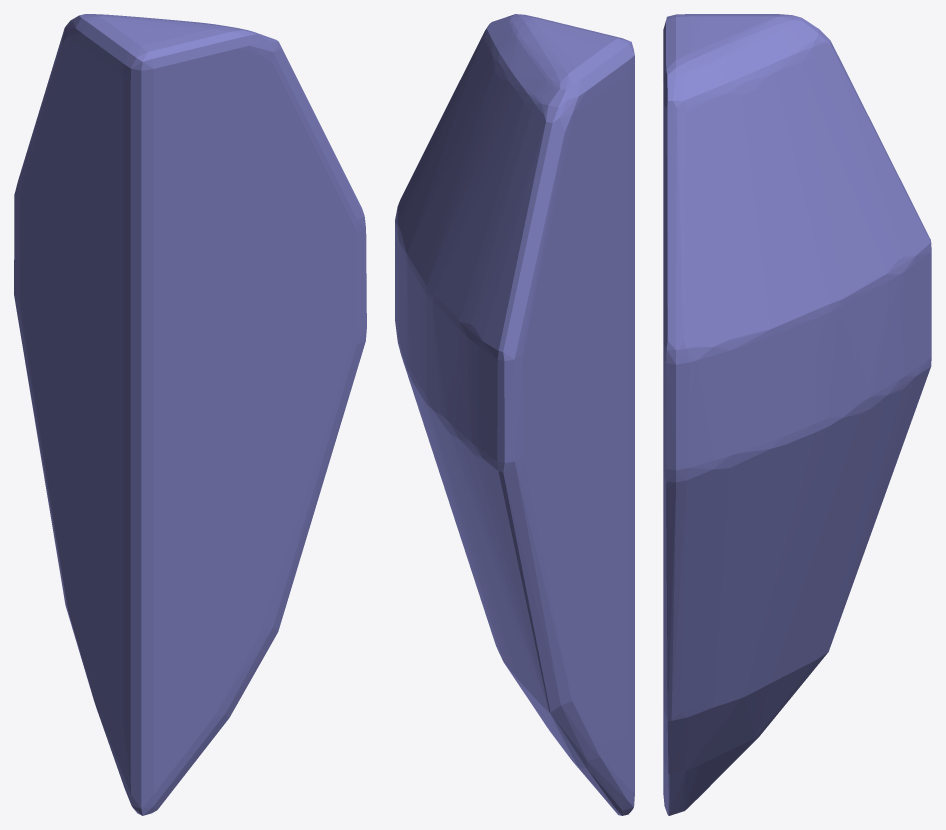
The model's file is left_hip_roll_link_part_12.obj.
3 renders of one model, left to right at view 1: azimuth 30°, elevation 25°; view 2: azimuth 150°, elevation 25°; view 3: azimuth 270°, elevation 25°, orthographic. The views are drawn at different scales.
Bounding box in the file's own units: 0.0242 × 0.0747 × 0.0228.
